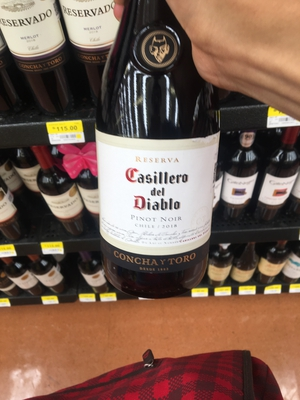casillero del diablo pinot noir: (90, 10, 223, 301)
